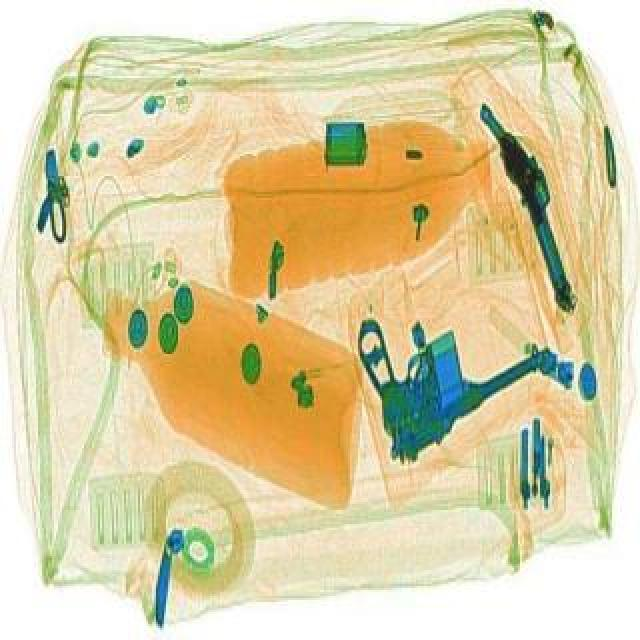gun: (310, 256, 554, 472), (474, 100, 590, 318)
